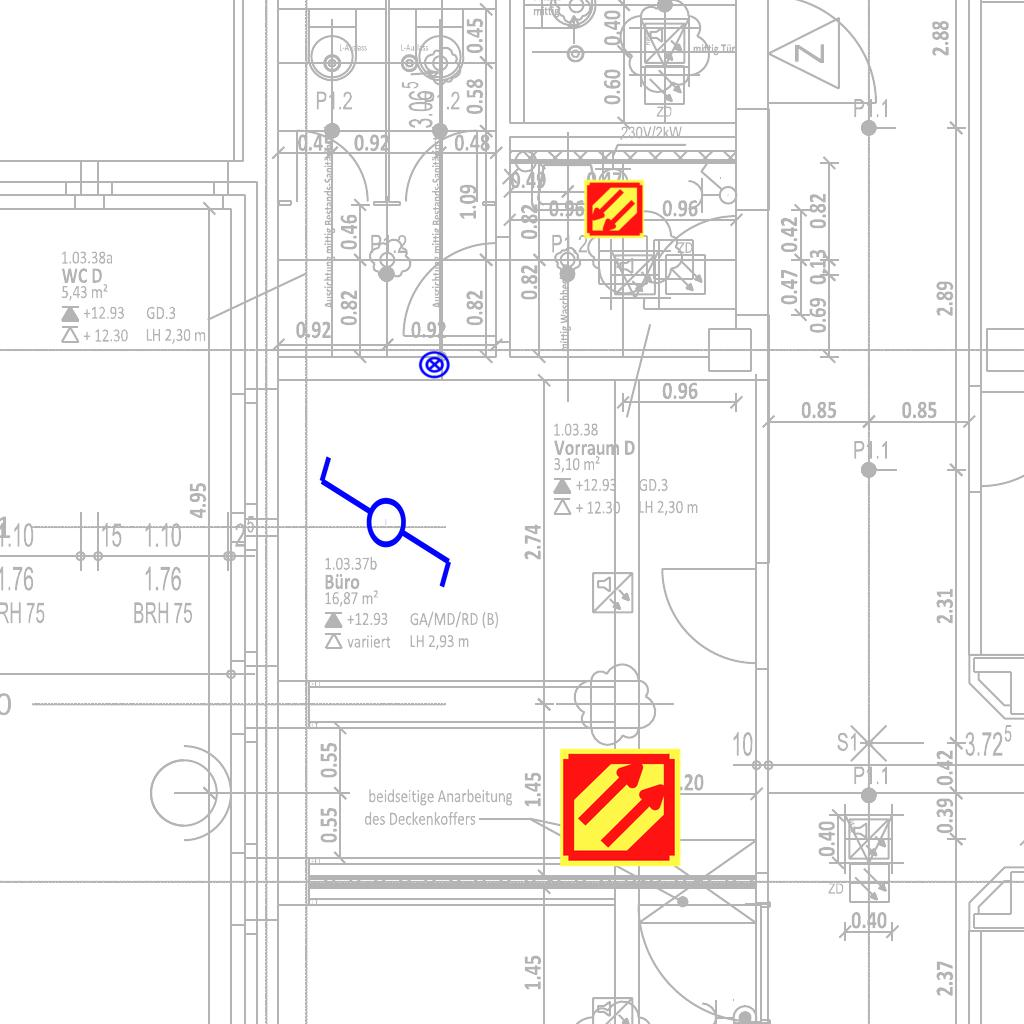ASR_Ansaugrauchmelder: (558, 745, 683, 870), (583, 178, 645, 240)
Taster_beleuchtet: (418, 348, 451, 381)
Wechselschalter: (312, 452, 456, 609)
